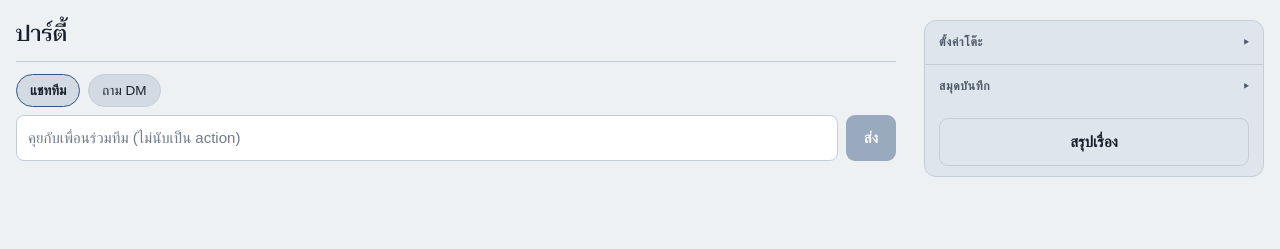
Scenario: CampaignPage — quest log › shows the empty state and unsubscribes on unmount
Click the button "สมุดบันทึก ▸": (965, 86) [925,65,1263,108]
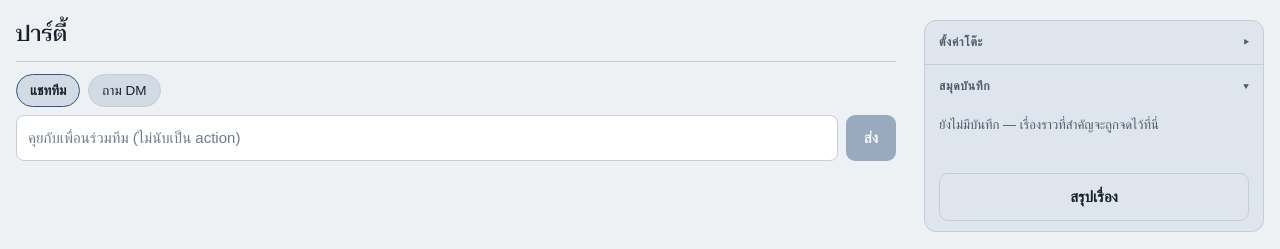
Expected: the text "ยังไม่มีบันทึก — เรื่องราวที่สำคัญจะถูกจดไว้ที่นี่" is shown, [939,117,1159,132]
